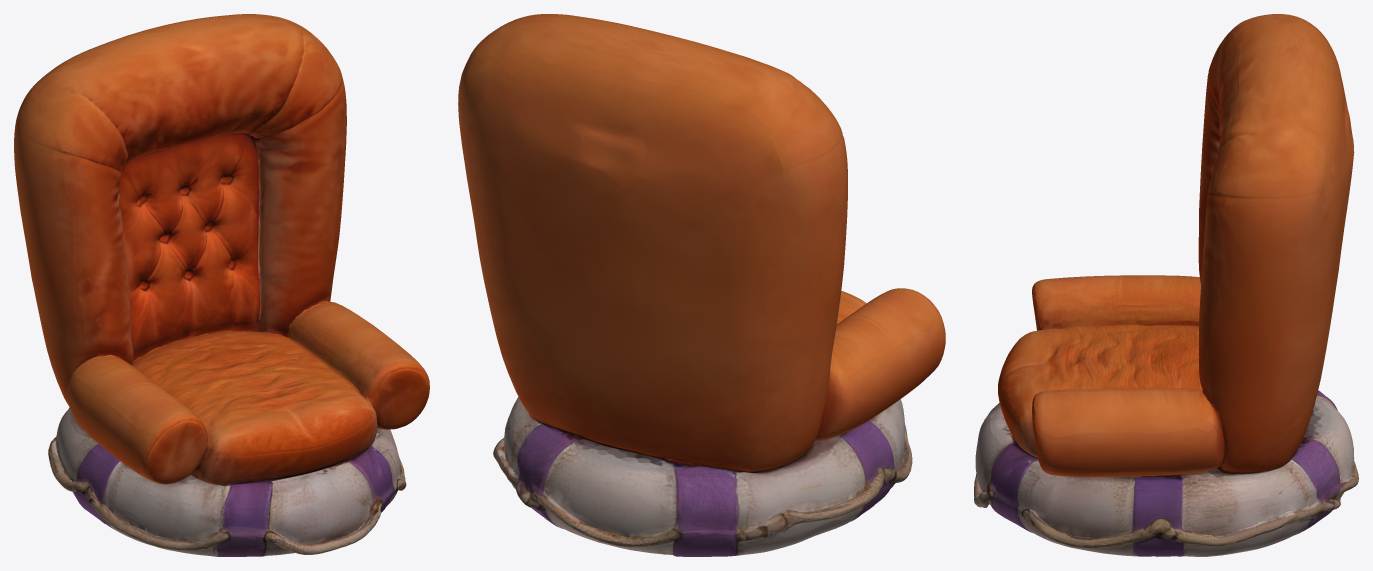
Rendered from chair.glb.
3 views of the same model, side by side, from view 1: azimuth 30°, elevation 25°; view 2: azimuth 150°, elevation 25°; view 3: azimuth 270°, elevation 25° (orthographic). The views are drawn at different scales.
Visible parts, largest first — view 1: textured-512; view 2: textured-512; view 3: textured-512.
Boxes of the visible parts, x1,y1,x2,y2 form: textured-512: (14,14,429,556); textured-512: (458,14,945,556); textured-512: (974,14,1358,556).
Size of the model in its own units: 1.27 by 1.62 by 1.28.
Materials: 1 (1 with a texture image).
